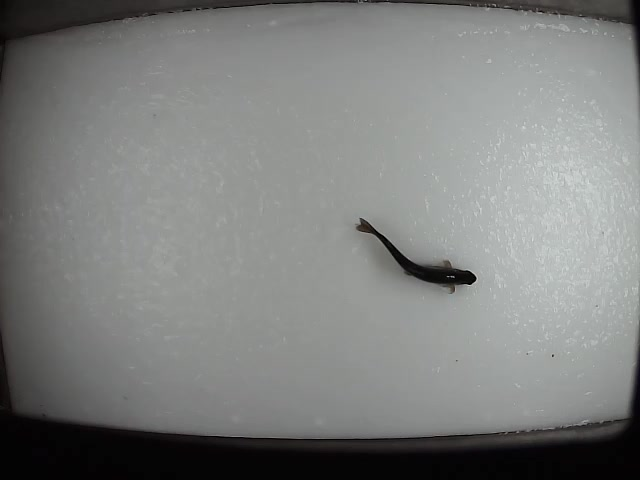Fish: (355, 217, 477, 294)
